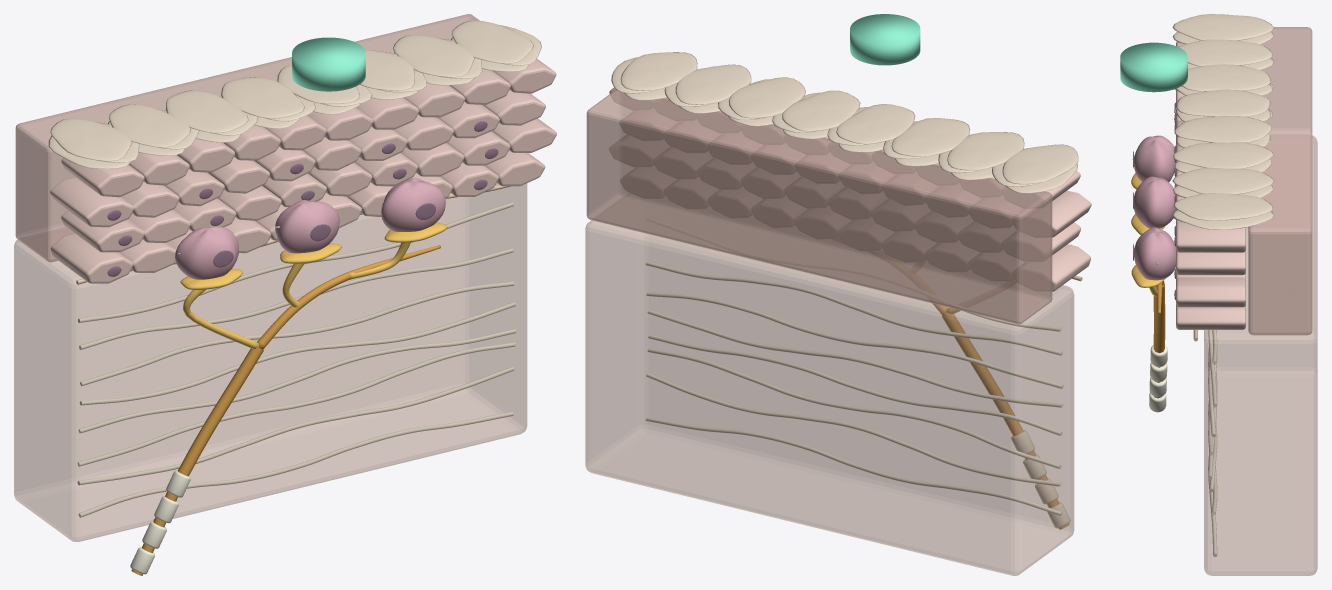
Rendered from merkel-Bnbw1z-g.glb.
3 renders of one model, left to right at view 1: azimuth 30°, elevation 25°; view 2: azimuth 150°, elevation 25°; view 3: azimuth 270°, elevation 25°, orthographic. The views are drawn at different scales.
Visible parts, largest first — view 1: merkel__dermis__01, merkel__epidermis__02, merkel__epidermis__58, merkel__dermis__02, merkel__epidermis__01, merkel__merkel-cell__01, merkel__nerve-disc__02, merkel__stimulus-probe__01, merkel__axon__01, merkel__myelin__01, merkel__nerve-disc__01, merkel__epidermis__03 (+1 smaller); view 2: merkel__dermis__01, merkel__epidermis__01, merkel__epidermis__02, merkel__epidermis__58, merkel__dermis__02, merkel__stimulus-probe__01, merkel__axon__01, merkel__myelin__01; view 3: merkel__dermis__01, merkel__epidermis__58, merkel__epidermis__01, merkel__epidermis__02, merkel__merkel-cell__01, merkel__stimulus-probe__01, merkel__dermis__02, merkel__myelin__01, merkel__nerve-disc__02, merkel__axon__01.
Part boxes in pixels (x1,y1,x2,y2): merkel__dermis__01: (14, 183, 527, 541); merkel__epidermis__02: (50, 59, 556, 283); merkel__epidermis__58: (48, 20, 541, 168); merkel__dermis__02: (77, 202, 516, 517); merkel__epidermis__01: (15, 14, 479, 262); merkel__merkel-cell__01: (175, 178, 445, 279); merkel__nerve-disc__02: (180, 222, 447, 349); merkel__stimulus-probe__01: (292, 37, 365, 91); merkel__axon__01: (131, 347, 263, 575); merkel__myelin__01: (130, 470, 190, 574); merkel__nerve-disc__01: (257, 245, 440, 349); merkel__epidermis__03: (107, 121, 498, 276); merkel__dermis__01: (585, 206, 1074, 575); merkel__epidermis__01: (586, 90, 1052, 324); merkel__epidermis__02: (609, 87, 1091, 291); merkel__epidermis__58: (611, 52, 1078, 193); merkel__dermis__02: (645, 261, 1063, 515); merkel__stimulus-probe__01: (850, 14, 920, 65); merkel__axon__01: (942, 313, 1069, 529); merkel__myelin__01: (1011, 430, 1070, 528); merkel__dermis__01: (1204, 135, 1317, 575); merkel__epidermis__58: (1172, 14, 1274, 229); merkel__epidermis__01: (1248, 27, 1312, 335); merkel__epidermis__02: (1176, 42, 1245, 329); merkel__merkel-cell__01: (1134, 135, 1175, 280); merkel__stimulus-probe__01: (1120, 42, 1187, 92); merkel__dermis__02: (1208, 330, 1217, 556); merkel__myelin__01: (1149, 345, 1167, 412); merkel__nerve-disc__02: (1131, 173, 1164, 296); merkel__axon__01: (1153, 281, 1165, 398).
Size of the model in its own units: 2.82 by 2.72 by 1.11.
